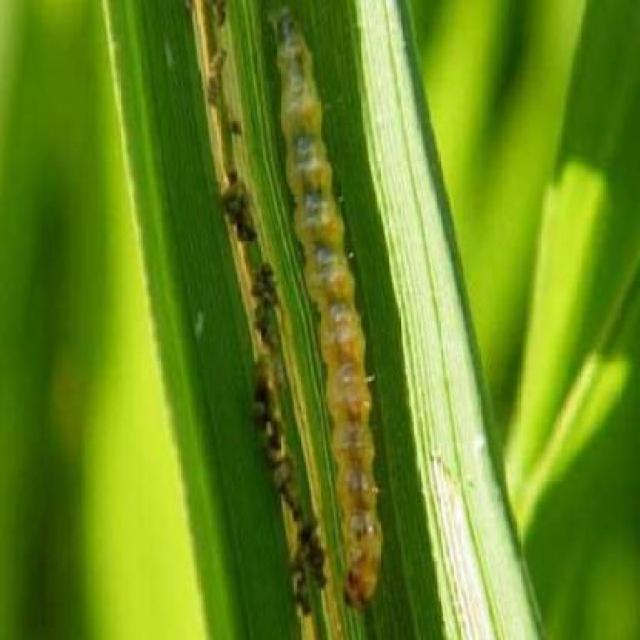leaf-folder: (233, 19, 398, 584)
